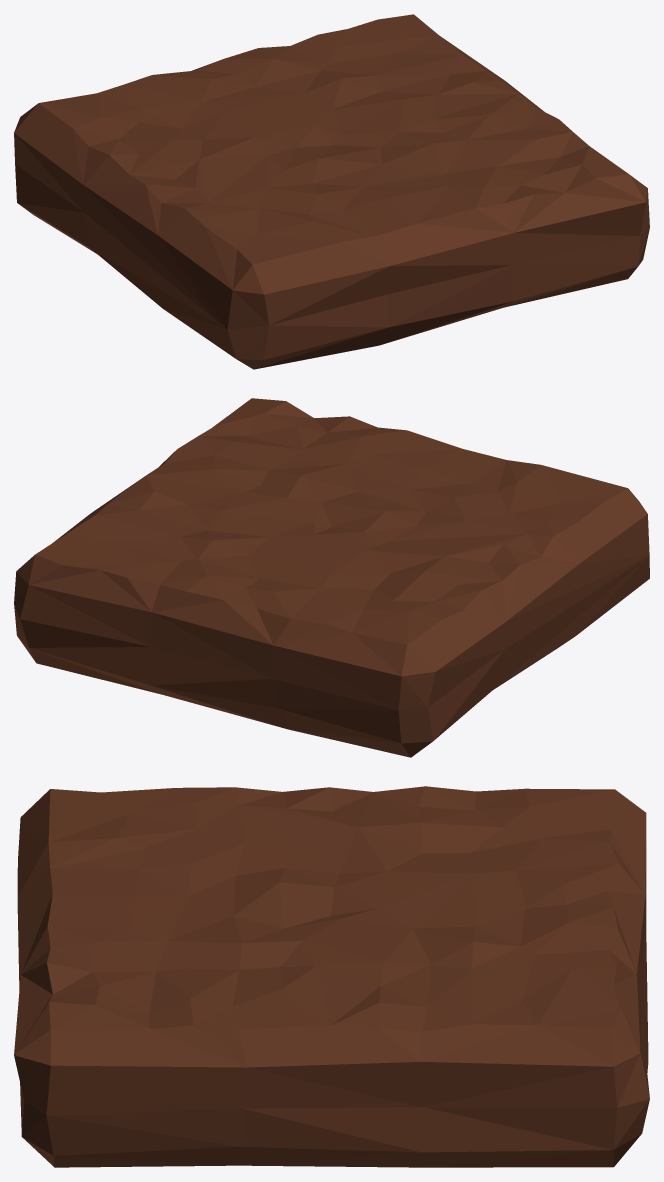
The model's file is dirt_patch_2.glb.
3 renders of one model, top to bottom at view 1: azimuth 30°, elevation 25°; view 2: azimuth 150°, elevation 25°; view 3: azimuth 270°, elevation 25°, orthographic. The views are drawn at different scales.
Visible parts, largest first — view 1: Cube.001; view 2: Cube.001; view 3: Cube.001.
Boxes of the visible parts, box(x1,y1,x2,y2) form: Cube.001: box(14, 14, 649, 369); Cube.001: box(14, 398, 649, 757); Cube.001: box(14, 786, 649, 1167).
Bounding box in the file's own units: 2.03 × 0.5427 × 2.04.
